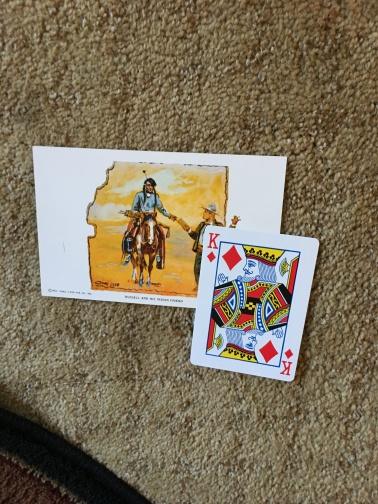king: (191, 225, 319, 384)
